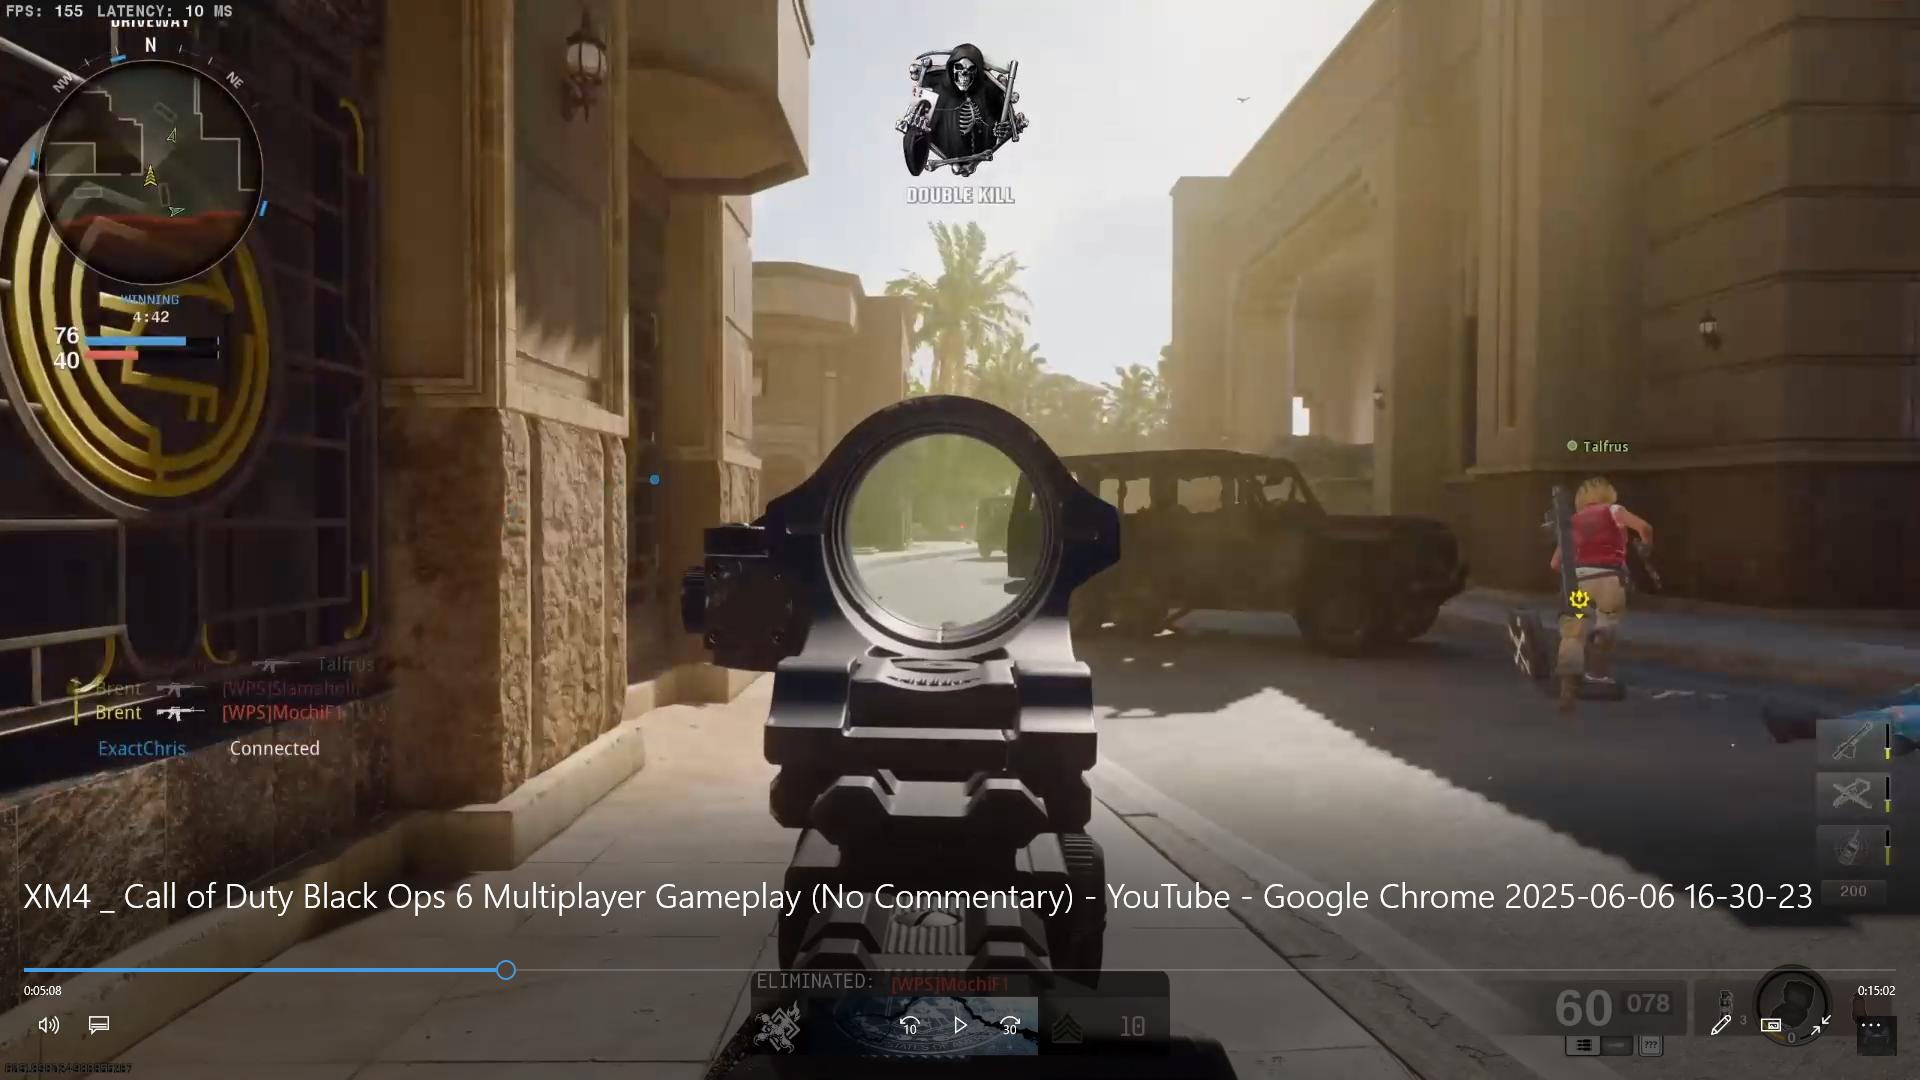Enemy: (1531, 458, 1659, 703)
